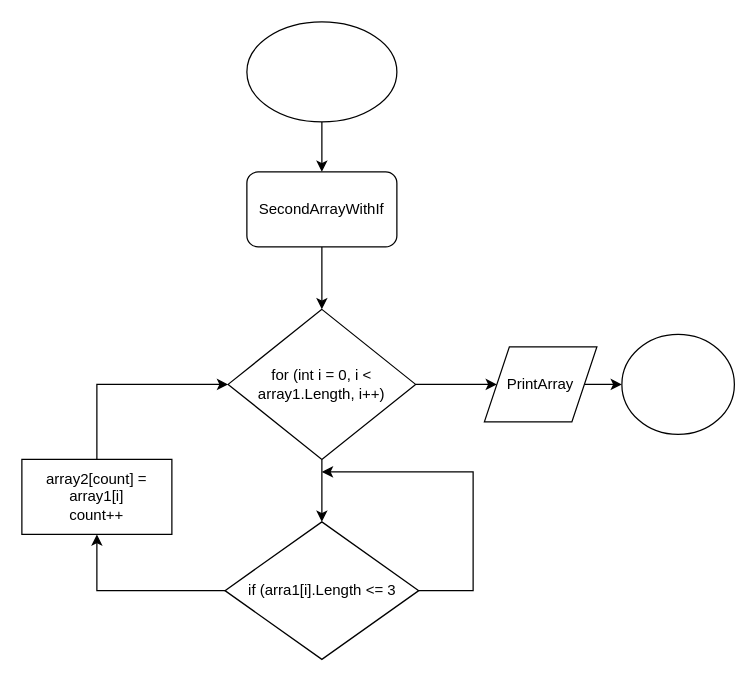
This 756x681 diagram has some shape labels left out. The shapes that lost their labels are listed below. From the top down, each one's box as (x1, y1, x2, y2) in pixels, then its label:
(246, 21, 397, 122): Начало
(621, 333, 734, 434): Конец
